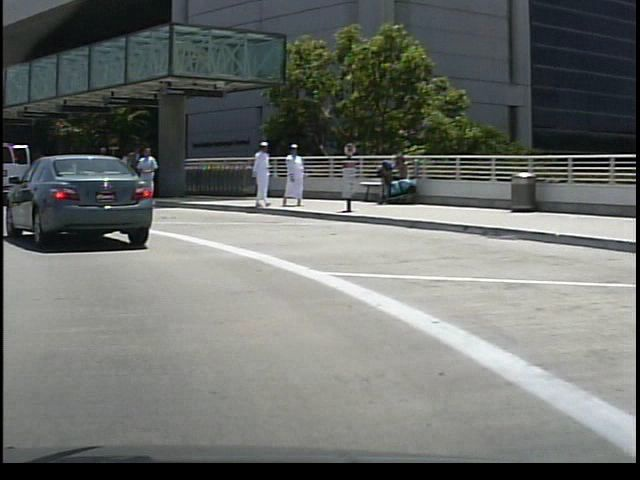person: (129, 140, 160, 220), (244, 137, 274, 216), (276, 141, 303, 209)
